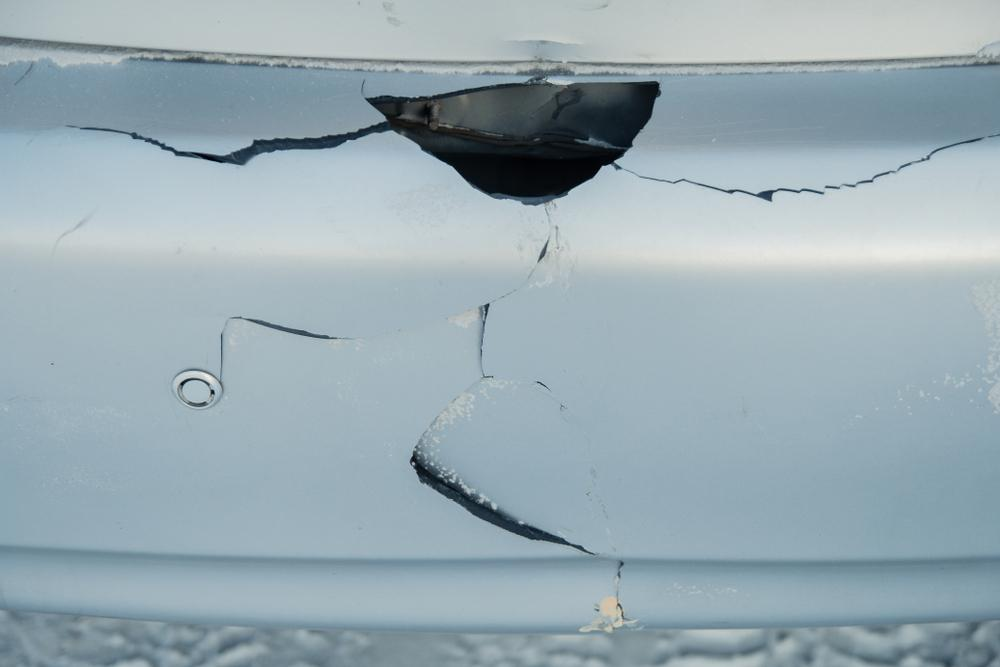crack: (61, 79, 1000, 631)
